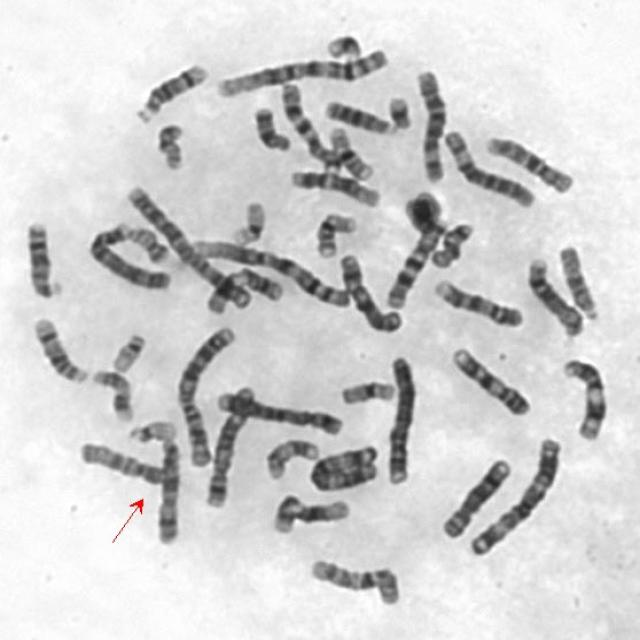A1: (186, 231, 353, 311), (209, 40, 392, 100)
A2: (118, 180, 251, 312), (171, 320, 238, 468)
A3: (461, 429, 564, 558), (303, 437, 381, 494)
B4: (83, 217, 173, 292), (381, 348, 417, 486)
B5: (198, 378, 260, 510), (209, 383, 345, 438)
C10: (478, 129, 576, 196), (302, 552, 402, 608)
C11: (198, 261, 286, 316), (555, 353, 609, 442)
C12: (283, 164, 382, 209), (266, 490, 353, 536)
C6: (437, 123, 538, 209), (410, 62, 450, 186)
C7: (380, 210, 450, 310), (274, 76, 344, 173)
C8: (435, 451, 514, 542), (521, 250, 587, 339)
C9: (445, 341, 533, 418), (428, 273, 525, 330)
D13: (19, 213, 64, 300), (318, 94, 394, 136)
D14: (128, 56, 210, 124), (26, 311, 88, 386)
D15: (72, 434, 171, 486), (553, 239, 602, 322)
E16: (321, 120, 375, 181), (309, 207, 359, 259)
E17: (258, 433, 321, 482), (85, 363, 135, 424)
E18: (424, 216, 476, 270), (248, 99, 294, 154)
F19: (225, 194, 268, 247), (335, 374, 397, 406)
F20: (122, 220, 173, 267), (150, 116, 187, 172)
G21: (319, 26, 365, 62), (382, 90, 414, 132)
G22: (104, 326, 148, 373), (121, 413, 178, 444)
X: (334, 248, 405, 334), (150, 433, 182, 546)
